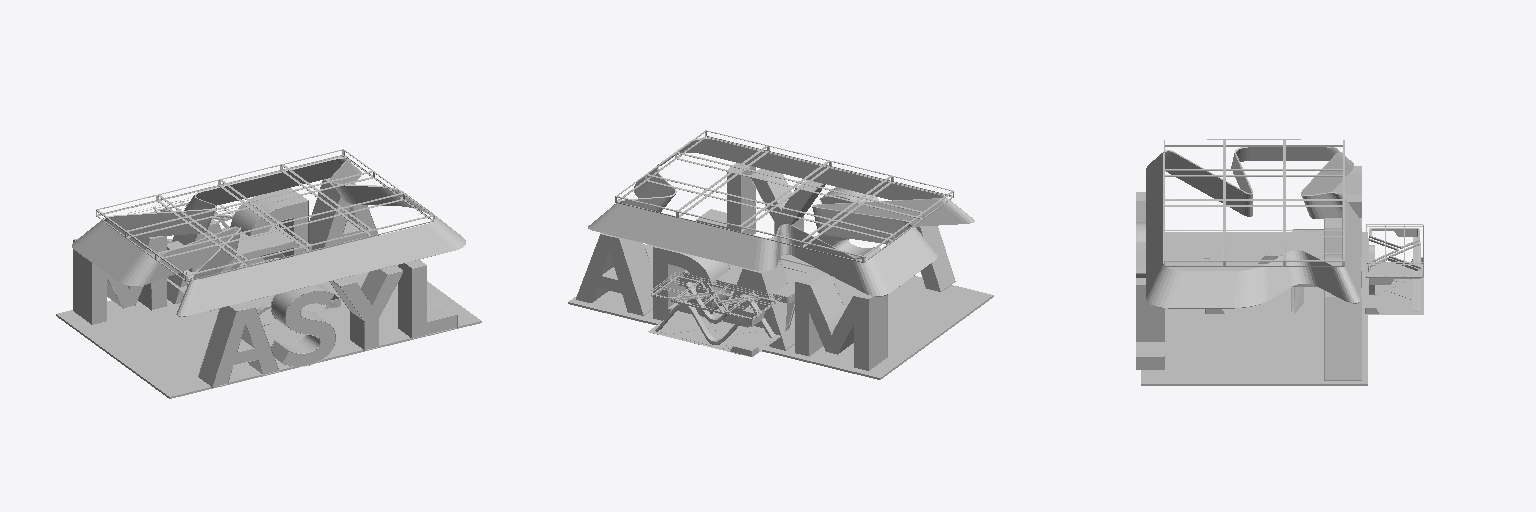
3 renders of one model, left to right at view 1: azimuth 30°, elevation 25°; view 2: azimuth 150°, elevation 25°; view 3: azimuth 270°, elevation 25°, orthographic.
Parts seen in each view (by area): view 1: Куб.054_Куб.117, Куб.053_Куб.114, Text, Text.002_Text.005, Куб.055_Куб.118, Куб.050_Куб.064; view 2: Куб.054_Куб.117, Text.002_Text.005, Куб.053_Куб.114, Text, Куб.055_Куб.118, Cube.001_Cube.002, Куб.060_Куб.002, Куб.050_Куб.064, Куб.059_Куб.001, Cube.009_Cube.014, Cube_Cube.013; view 3: Куб.053_Куб.114, Куб.054_Куб.117, Text.002_Text.005, Куб.055_Куб.118, Text, Cube.001_Cube.002, Куб.050_Куб.064, Куб, Куб.059_Куб.001, Куб.060_Куб.002.
Boxes of the visible parts, x1,y1,x2,y2 form: Куб.054_Куб.117: [72, 157, 465, 316]; Куб.053_Куб.114: [56, 265, 481, 398]; Text: [199, 260, 456, 386]; Text.002_Text.005: [73, 178, 377, 324]; Куб.055_Куб.118: [96, 149, 433, 281]; Куб.050_Куб.064: [167, 225, 295, 255]; Куб.054_Куб.117: [588, 138, 974, 296]; Text.002_Text.005: [576, 233, 886, 370]; Куб.053_Куб.114: [568, 244, 993, 379]; Text: [697, 163, 954, 291]; Куб.055_Куб.118: [615, 130, 953, 262]; Cube.001_Cube.002: [653, 312, 776, 349]; Куб.060_Куб.002: [648, 272, 781, 319]; Куб.050_Куб.064: [685, 264, 805, 296]; Куб.059_Куб.001: [648, 311, 780, 356]; Cube.009_Cube.014: [655, 302, 741, 344]; Cube_Cube.013: [685, 282, 774, 337]; Куб.053_Куб.114: [1141, 232, 1367, 385]; Куб.054_Куб.117: [1146, 147, 1360, 308]; Text.002_Text.005: [1325, 166, 1361, 380]; Куб.055_Куб.118: [1164, 139, 1344, 266]; Text: [1136, 192, 1163, 369]; Cube.001_Cube.002: [1368, 265, 1420, 312]; Куб.050_Куб.064: [1293, 231, 1341, 259]; Куб: [1293, 287, 1323, 313]; Куб.059_Куб.001: [1365, 263, 1423, 314]; Куб.060_Куб.002: [1366, 224, 1423, 277].
Bounding box in the file's own units: 362 × 120 × 290.